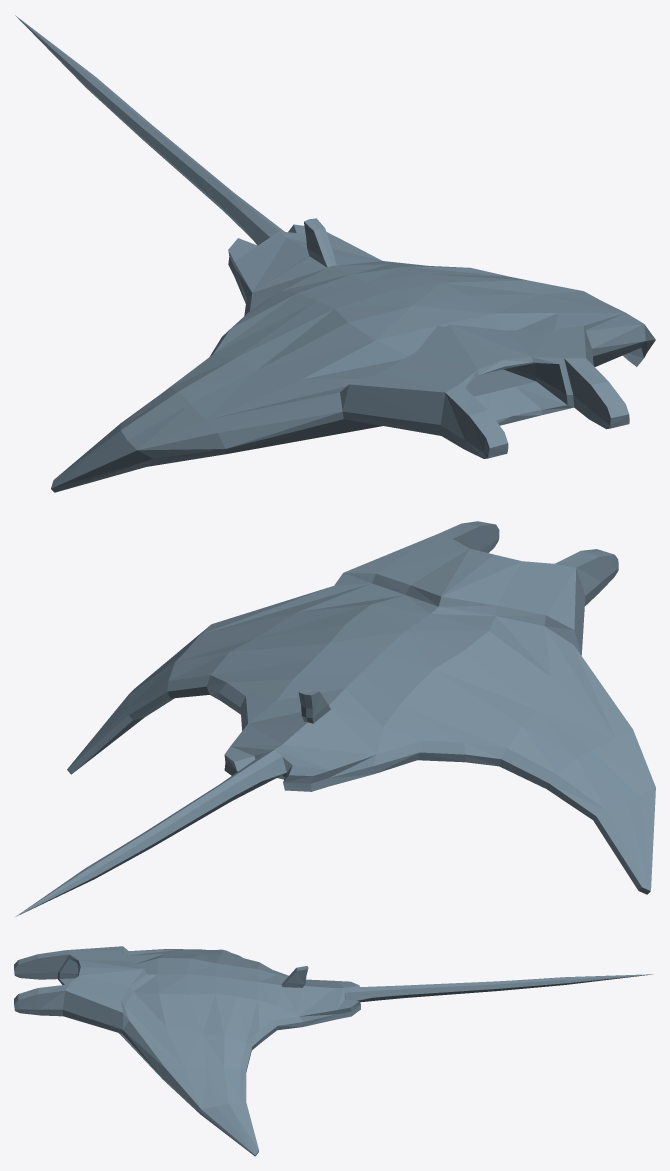
Rendered from manta.glb.
3 renders of one model, top to bottom at view 1: azimuth 30°, elevation 25°; view 2: azimuth 150°, elevation 25°; view 3: azimuth 270°, elevation 25°, orthographic. The views are drawn at different scales.
Parts seen in each view (by area): view 1: Manta ray.obj; view 2: Manta ray.obj; view 3: Manta ray.obj.
Boxes of the visible parts, bbox=[...] form: Manta ray.obj: bbox=[15, 15, 655, 492]; Manta ray.obj: bbox=[15, 521, 655, 916]; Manta ray.obj: bbox=[14, 946, 652, 1156].
Bounding box in the file's own units: 1.25 × 0.3732 × 2.
